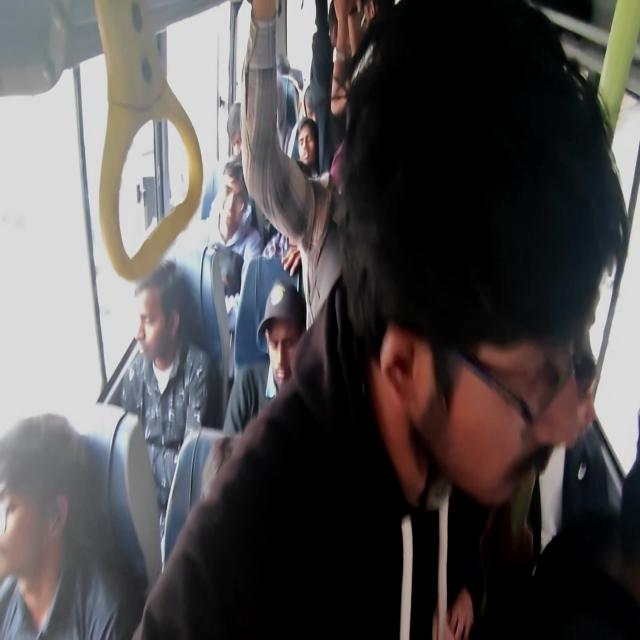person: (360, 122, 562, 491), (10, 398, 135, 612), (302, 162, 418, 260), (551, 245, 594, 468), (142, 267, 207, 354), (228, 95, 268, 169), (218, 166, 250, 228), (258, 292, 292, 346), (269, 226, 295, 290), (303, 74, 326, 114), (300, 114, 318, 159), (269, 48, 290, 84)
